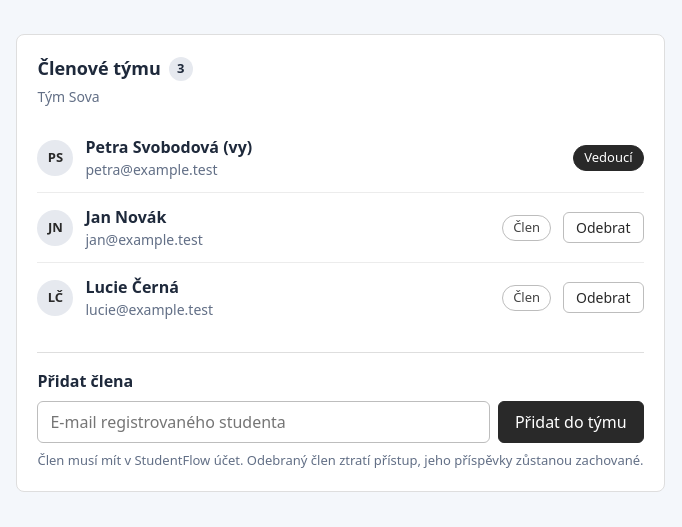
ProjectMembers removal › reports a connection failure and reloads, because the member may have been removed
The width and height of the screenshot is (682, 527).
What coordinates should you click on to do the following:
click the button "Odebrat" in the row of "JN"
I would click on:
 (603, 228)
Its box is [563,212,644,243].
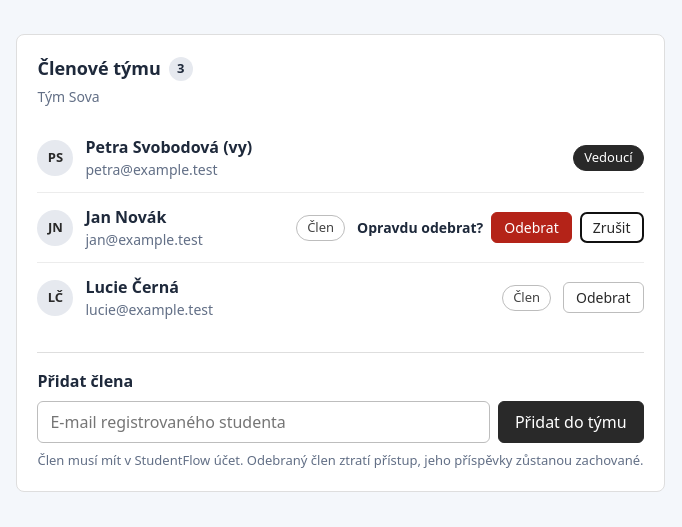
What coordinates should you click on to do the following:
click the button "Odebrat" next to "Opravdu odebrat?"
I would click on:
 (531, 228)
Its box is [491,212,572,243].
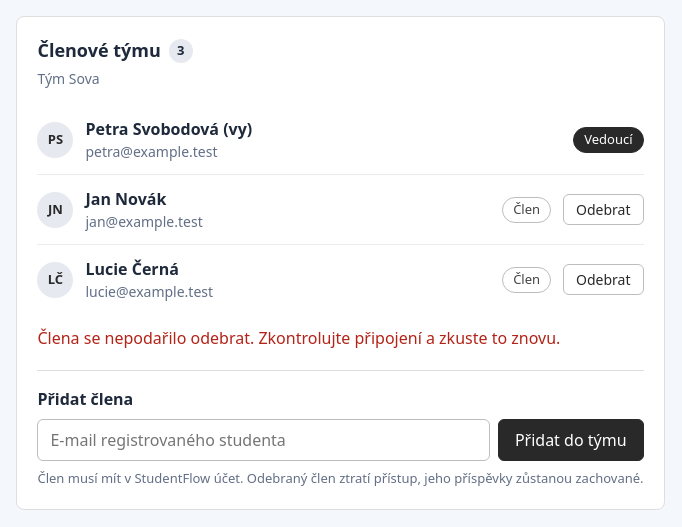
Check: the message reads "Člena se nepodařilo odebrat. Zkontrolujte připojení a zkuste to znovu.", box [38,327,560,349]
